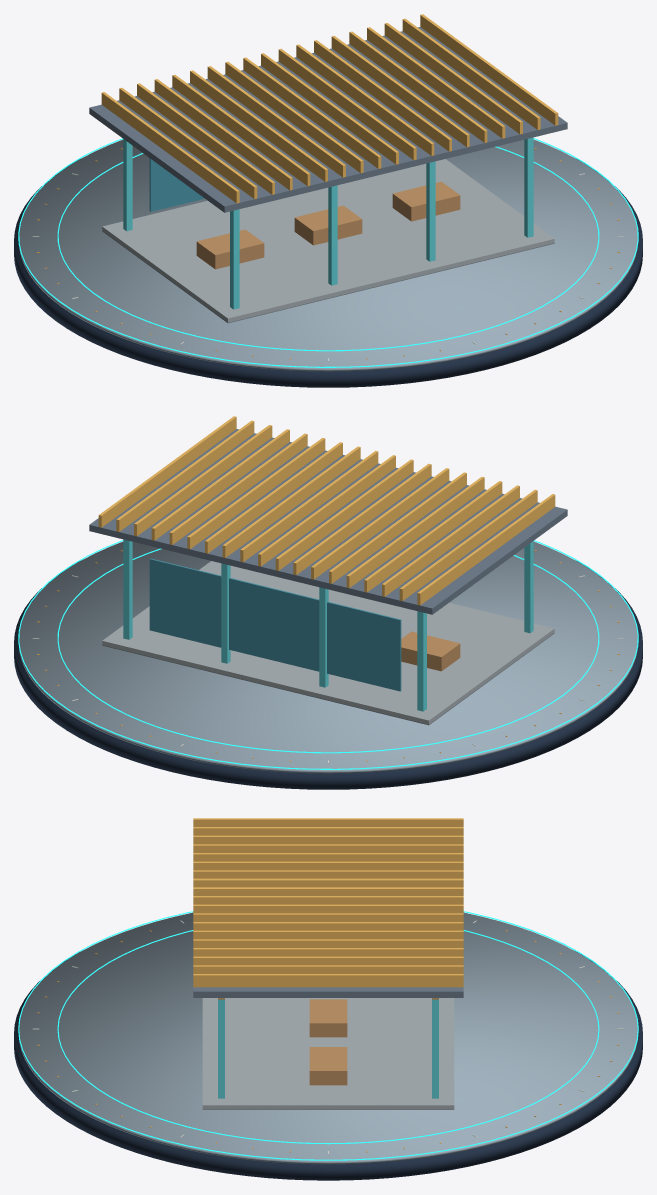
3 views of the same model, one above another, from view 1: azimuth 30°, elevation 25°; view 2: azimuth 150°, elevation 25°; view 3: azimuth 270°, elevation 25° (orthographic).
Visible parts, largest first — view 1: Floating plinth / crown, Ground / polished concrete, Roof / insulated canopy, Floating plinth / lower, Solar fin 04 / anodised aluminium, Solar fin 08 / anodised aluminium, Solar fin 09 / anodised aluminium, Solar fin 15 / anodised aluminium, Solar fin 19 / anodised aluminium, Solar fin 11 / anodised aluminium, Solar fin 07 / anodised aluminium, Solar fin 12 / anodised aluminium (+23 smaller); view 2: Floating plinth / crown, Ground / polished concrete, Rear screen / translucent glass, Roof / insulated canopy, Floating plinth / lower, Solar fin 04 / anodised aluminium, Solar fin 08 / anodised aluminium, Solar fin 09 / anodised aluminium, Solar fin 15 / anodised aluminium, Solar fin 19 / anodised aluminium, Solar fin 11 / anodised aluminium, Solar fin 07 / anodised aluminium (+21 smaller); view 3: Floating plinth / crown, Ground / polished concrete, Floating plinth / lower, Solar fin 19 / anodised aluminium, Roof / insulated canopy, Solar fin 17 / anodised aluminium, Solar fin 14 / anodised aluminium, Solar fin 08 / anodised aluminium, Solar fin 03 / anodised aluminium, Solar fin 06 / anodised aluminium, Solar fin 11 / anodised aluminium, Solar fin 05 / anodised aluminium (+17 smaller).
Part boxes in pixels (left/top/right/bottom): Floating plinth / crown: left=19, top=139, right=637, bottom=371; Ground / polished concrete: left=102, top=159, right=554, bottom=322; Roof / insulated canopy: left=89, top=27, right=567, bottom=212; Floating plinth / lower: left=14, top=159, right=642, bottom=387; Solar fin 04 / anodised aluminium: left=154, top=79, right=292, bottom=190; Solar fin 08 / anodised aluminium: left=225, top=61, right=363, bottom=173; Solar fin 09 / anodised aluminium: left=243, top=57, right=381, bottom=168; Solar fin 15 / anodised aluminium: left=349, top=31, right=487, bottom=142; Solar fin 19 / anodised aluminium: left=420, top=14, right=558, bottom=125; Solar fin 11 / anodised aluminium: left=278, top=48, right=416, bottom=160; Solar fin 07 / anodised aluminium: left=207, top=66, right=345, bottom=177; Solar fin 12 / anodised aluminium: left=296, top=44, right=434, bottom=155; Floating plinth / crown: left=19, top=541, right=637, bottom=773; Ground / polished concrete: left=102, top=561, right=554, bottom=724; Rear screen / translucent glass: left=149, top=558, right=401, bottom=691; Roof / insulated canopy: left=89, top=429, right=567, bottom=614; Floating plinth / lower: left=14, top=561, right=642, bottom=789; Solar fin 04 / anodised aluminium: left=364, top=481, right=502, bottom=592; Solar fin 08 / anodised aluminium: left=293, top=463, right=431, bottom=575; Solar fin 09 / anodised aluminium: left=275, top=459, right=413, bottom=570; Solar fin 15 / anodised aluminium: left=169, top=433, right=307, bottom=544; Solar fin 19 / anodised aluminium: left=98, top=416, right=236, bottom=527; Solar fin 11 / anodised aluminium: left=240, top=450, right=378, bottom=562; Solar fin 07 / anodised aluminium: left=311, top=468, right=449, bottom=579; Floating plinth / crown: left=19, top=912, right=637, bottom=1164; Ground / polished concrete: left=202, top=998, right=454, bottom=1109; Floating plinth / lower: left=14, top=951, right=642, bottom=1180; Solar fin 19 / anodised aluminium: left=193, top=974, right=463, bottom=987; Roof / insulated canopy: left=193, top=987, right=463, bottom=997; Solar fin 17 / anodised aluminium: left=193, top=956, right=463, bottom=965; Solar fin 14 / anodised aluminium: left=193, top=930, right=463, bottom=939; Solar fin 08 / anodised aluminium: left=193, top=878, right=463, bottom=887; Solar fin 03 / anodised aluminium: left=193, top=835, right=463, bottom=844; Solar fin 06 / anodised aluminium: left=193, top=861, right=463, bottom=870; Solar fin 11 / anodised aluminium: left=193, top=904, right=463, bottom=913; Solar fin 05 / anodised aluminium: left=193, top=853, right=463, bottom=861.
Bounding box in the file's own units: 20 × 5.32 × 20.
